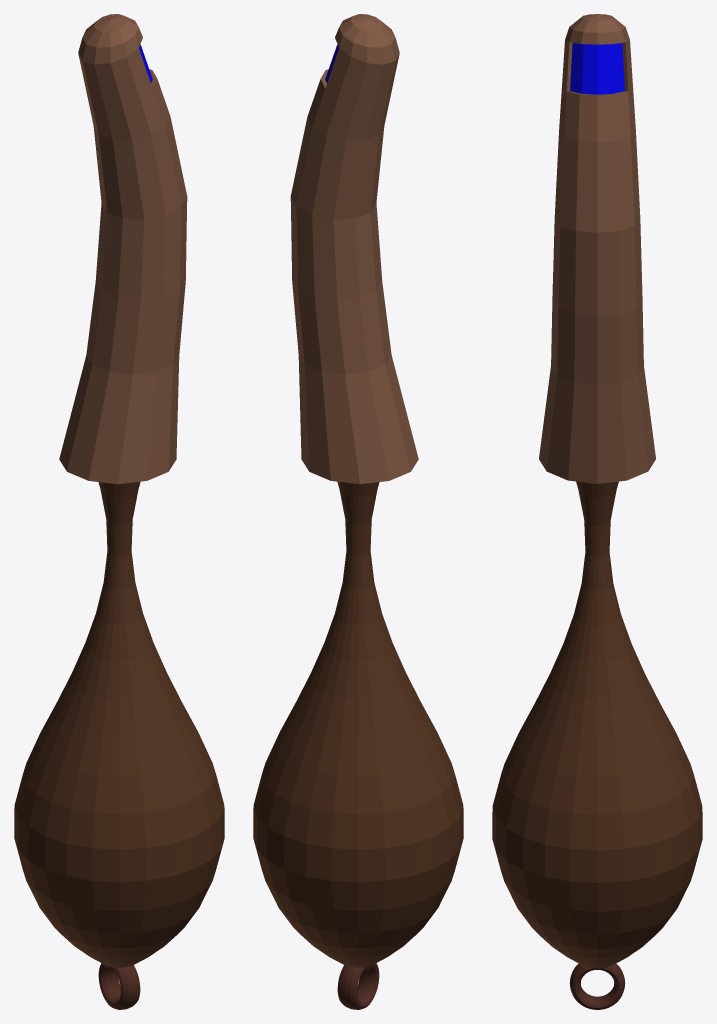
The model's file is Wand 941.glb.
3 renders of one model, left to right at view 1: azimuth 30°, elevation 25°; view 2: azimuth 150°, elevation 25°; view 3: azimuth 270°, elevation 25°, orthographic.
Parts seen in each view (by area): view 1: GeneratedWand; view 2: GeneratedWand; view 3: GeneratedWand.
Part boxes in pixels (x1,y1,x2,y2): GeneratedWand: [14, 14, 224, 1009]; GeneratedWand: [253, 14, 463, 1009]; GeneratedWand: [492, 14, 702, 1009].
Bounding box in the file's own units: 0.1026 × 0.5323 × 0.1026.
